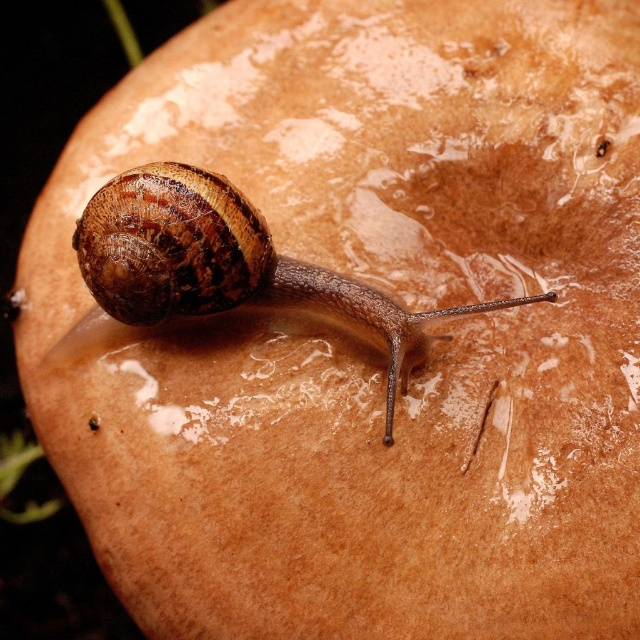Snail: (30, 158, 558, 445)
